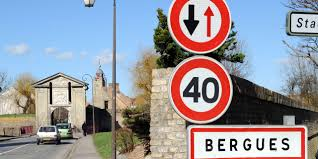Speed_limit_40km: (168, 56, 233, 123)
car: (35, 123, 63, 147)
